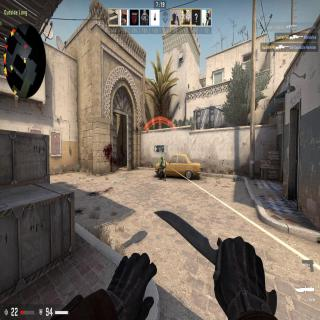CT-Body: (156, 156, 168, 180)
CT-Head: (160, 156, 165, 161)
